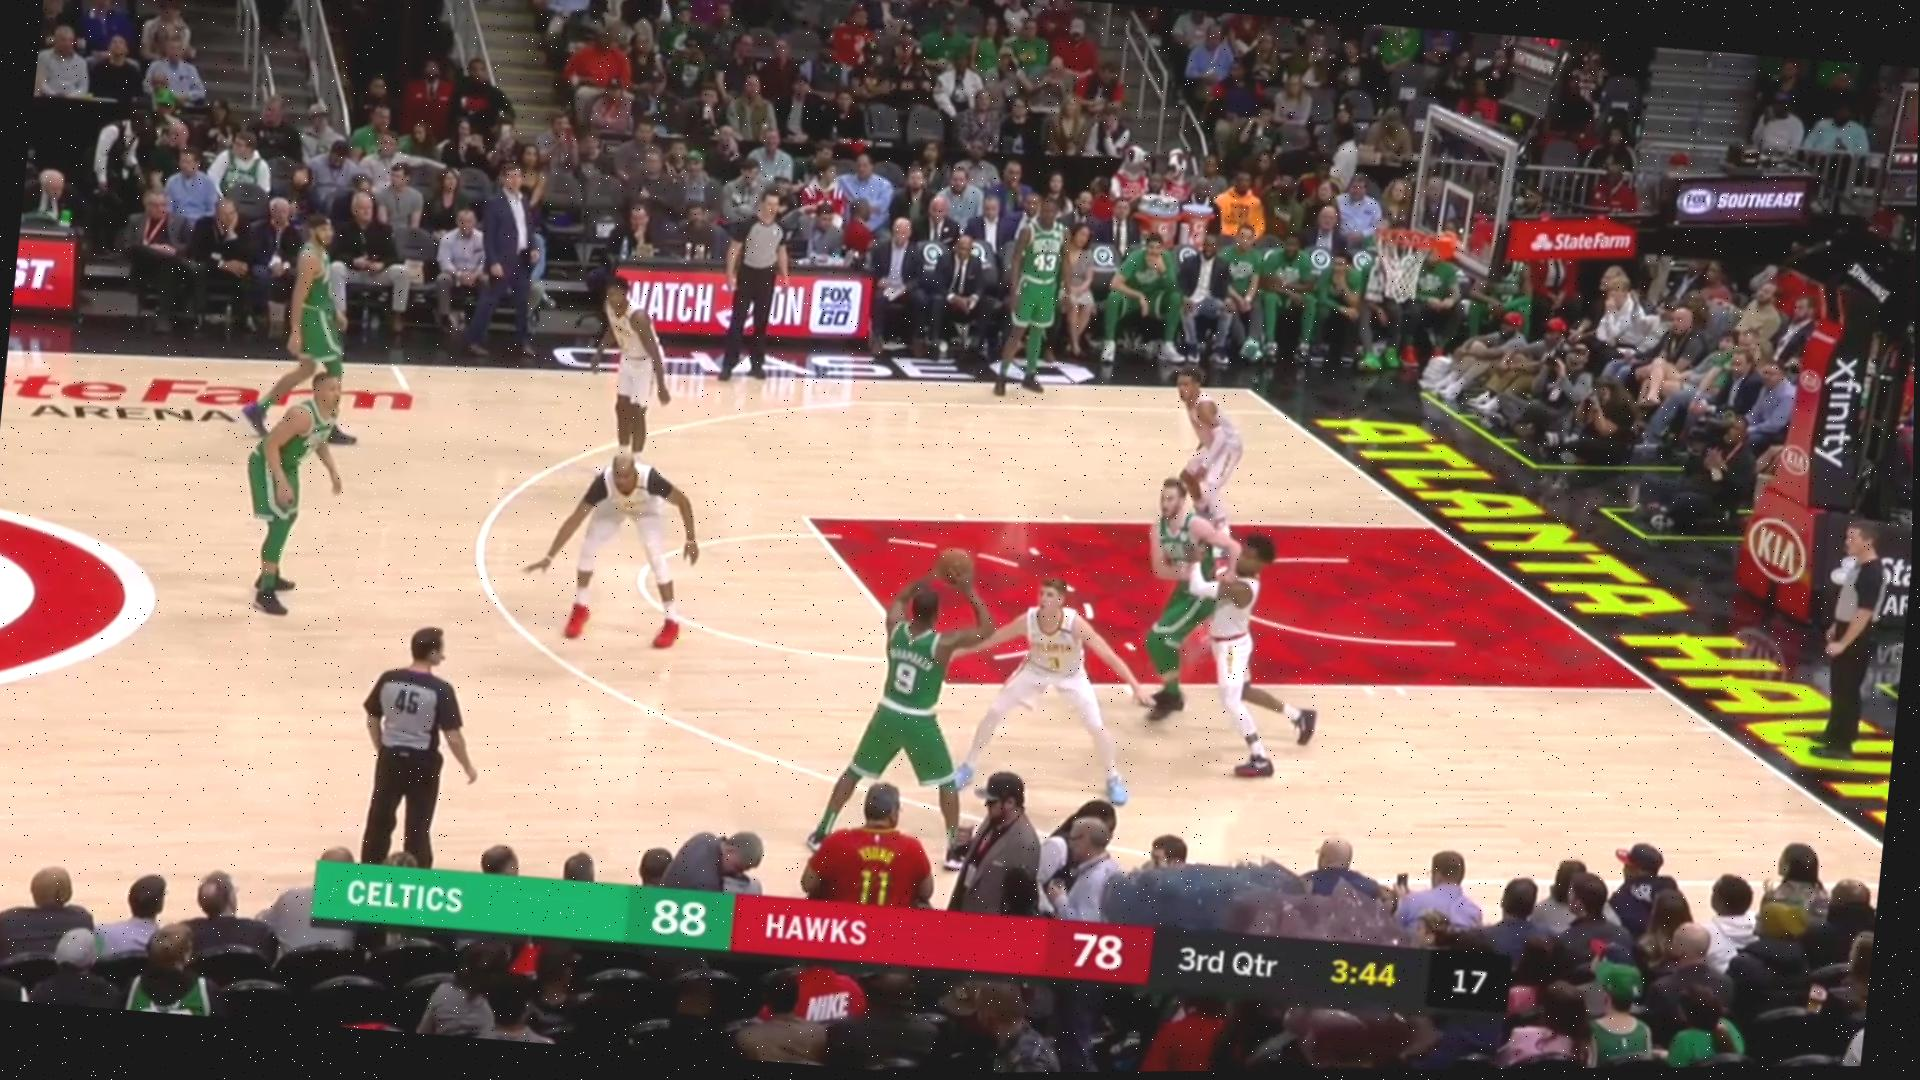no_foul: (1125, 476, 1331, 769)
